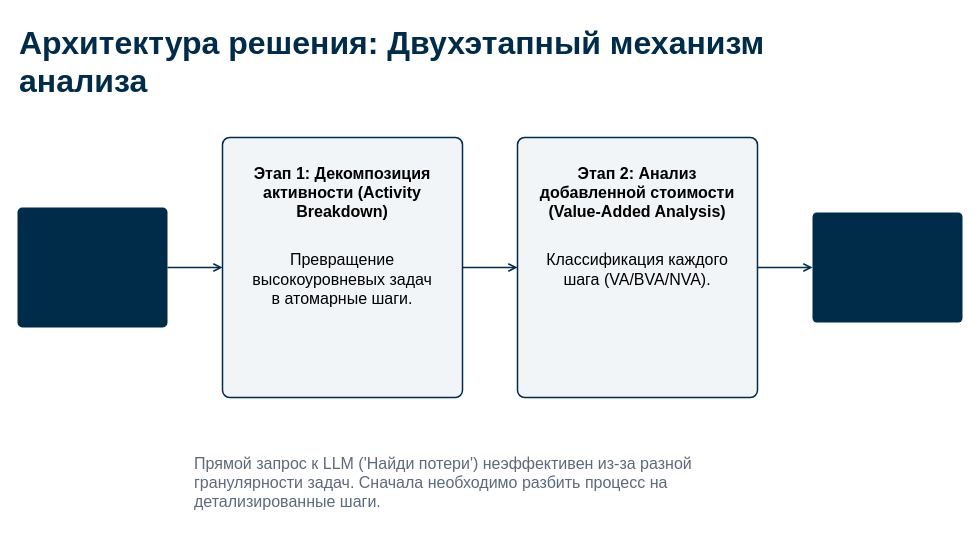
This 979x544 diagram has some shape labels left out. Each missing label, with the box of its shape:
Входные данные (Модель процесса / BPMN): (17, 207, 167, 327)
Отчет об эффективности: (812, 212, 962, 322)
